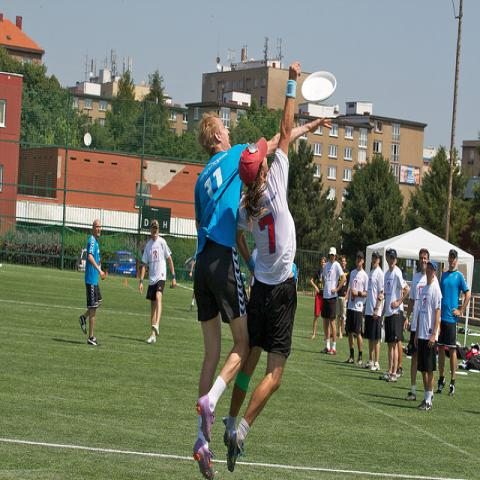car: (107, 251, 137, 278)
